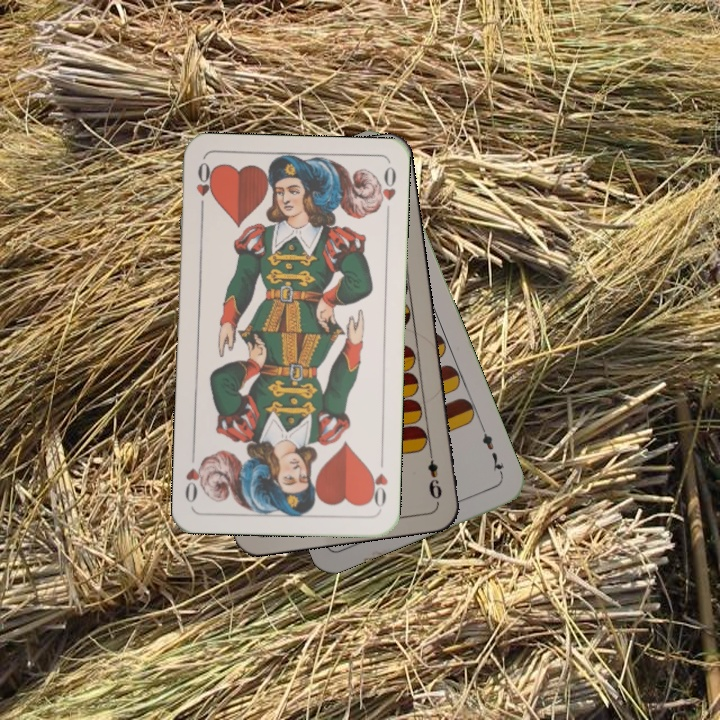E7: (477, 422, 506, 479)
E9: (424, 446, 445, 505)
HO: (365, 453, 390, 512), (192, 158, 215, 217)
